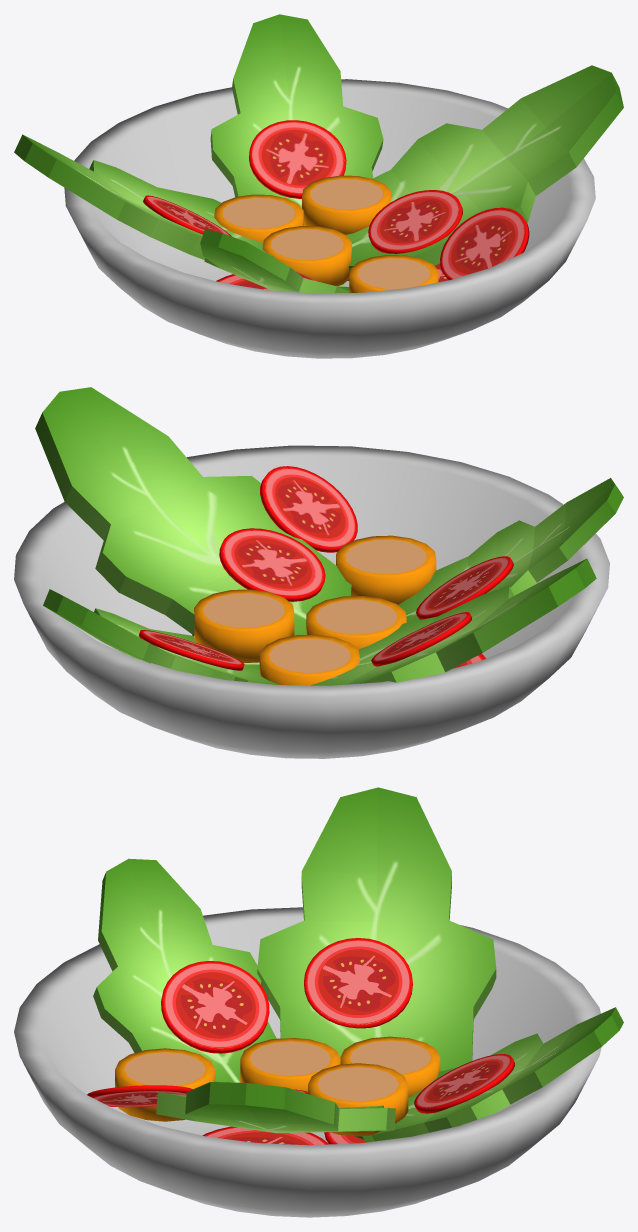
Rendered from SaladPlate.fbx.
The picture shows the model from 3 angles, top to bottom: view 1: azimuth 30°, elevation 25°; view 2: azimuth 150°, elevation 25°; view 3: azimuth 270°, elevation 25°; orthographic projection. The views are drawn at different scales.
Parts seen in each view (by area): view 1: SaladPlate, SaladLettuce, SaladTomato, SaladCarrot, SingleTomato; view 2: SaladPlate, SaladLettuce, SaladCarrot, SaladTomato; view 3: SaladLettuce, SaladPlate, SaladTomato, SaladCarrot, SingleTomato.
Part boxes in pixels (x1,y1,x2,y2): SaladPlate: (64,79,595,358); SaladLettuce: (14,14,623,293); SaladTomato: (143,120,529,281); SaladCarrot: (214,175,438,292); SingleTomato: (216,263,447,290); SaladPlate: (14,445,609,758); SaladLettuce: (35,387,623,685); SaladCarrot: (194,535,436,685); SaladTomato: (138,466,513,670); SaladLettuce: (93,787,623,1142); SaladPlate: (14,907,601,1217); SaladTomato: (87,938,514,1113); SaladCarrot: (115,1036,440,1136); SingleTomato: (202,1126,366,1145).
Size of the model in its own units: 36.93 by 12.25 by 32.84.
